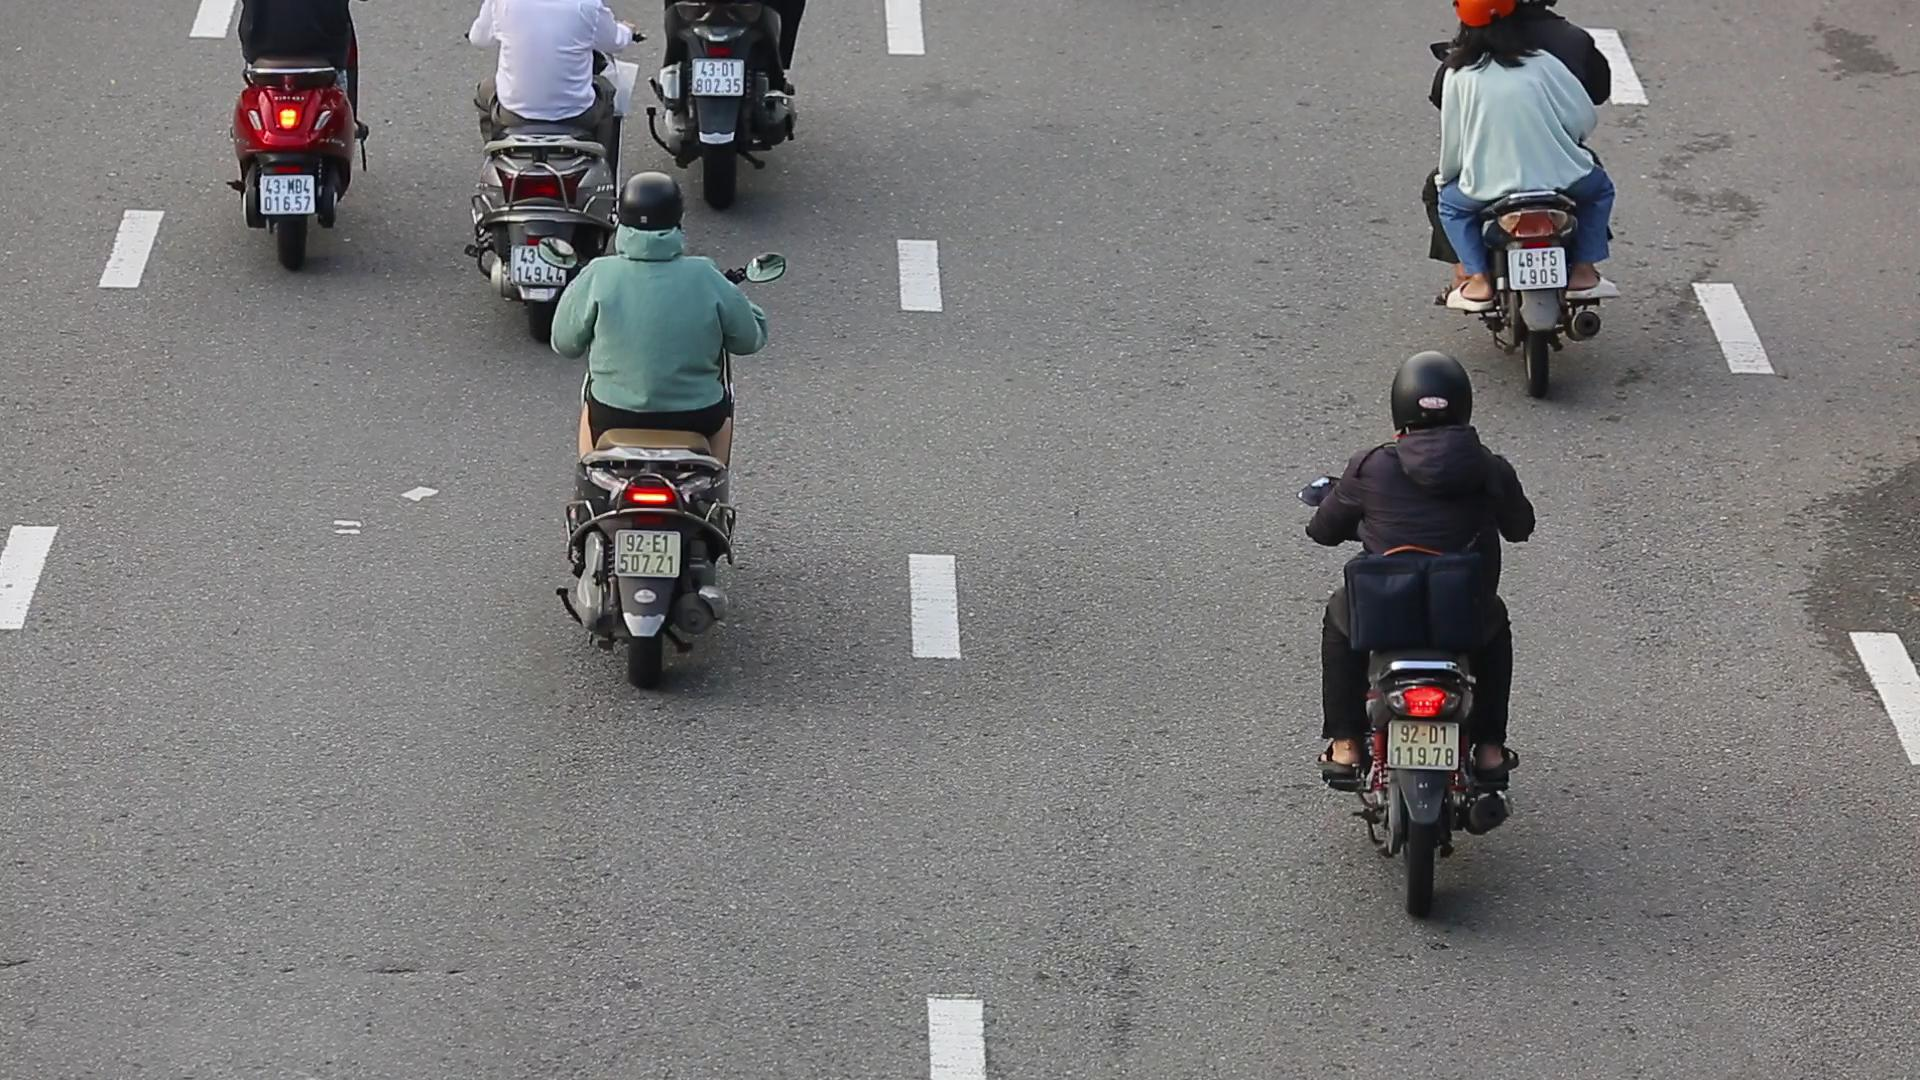motobike: (1294, 342, 1547, 940), (541, 165, 795, 696)
